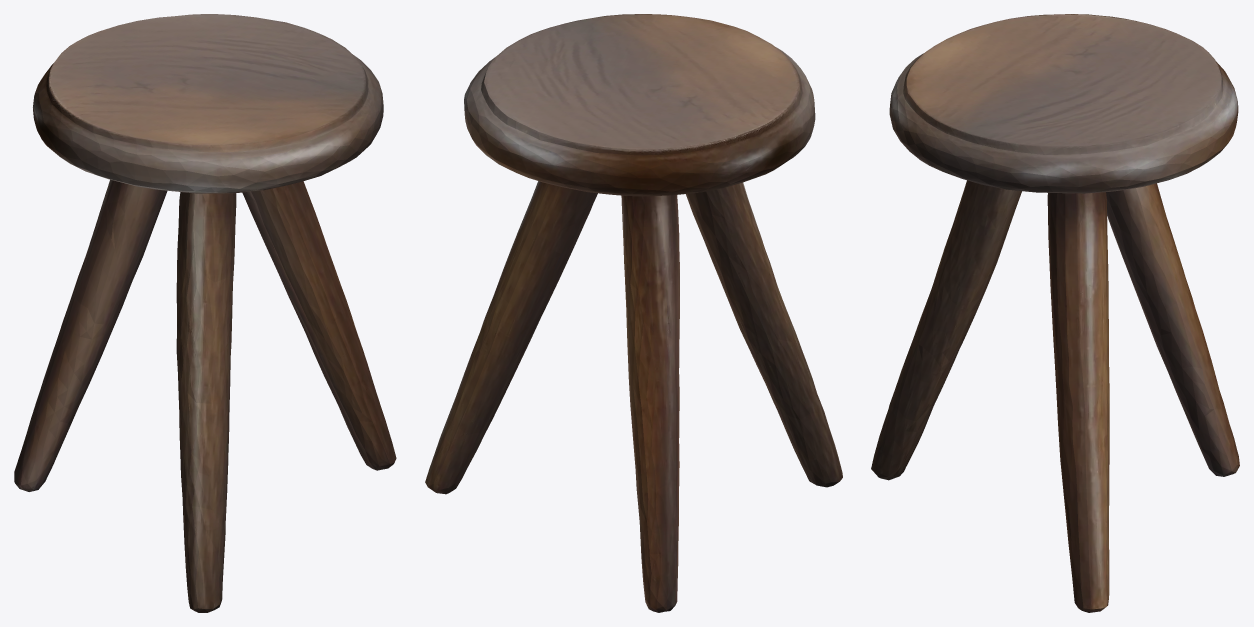
The model's file is ast_07ad0c3cef0c.glb.
The picture shows the model from 3 angles, left to right: view 1: azimuth 30°, elevation 25°; view 2: azimuth 150°, elevation 25°; view 3: azimuth 270°, elevation 25°; orthographic projection.
Visible parts, largest first — view 1: geometry_0; view 2: geometry_0; view 3: geometry_0.
Part boxes in pixels (left/top/right/bottom): geometry_0: left=14, top=14, right=396, bottom=612; geometry_0: left=425, top=14, right=842, bottom=612; geometry_0: left=871, top=14, right=1239, bottom=612.
Bounding box in the file's own units: 0.475 × 0.5728 × 0.4336.
1 material, 1 textured.
